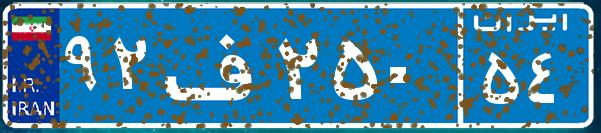0: (385, 28, 445, 110)
2: (273, 28, 330, 110), (110, 28, 158, 105)
4: (525, 38, 570, 115)
5: (330, 28, 385, 110), (475, 38, 525, 113)
9: (57, 26, 110, 107)
ف: (158, 15, 273, 115)
